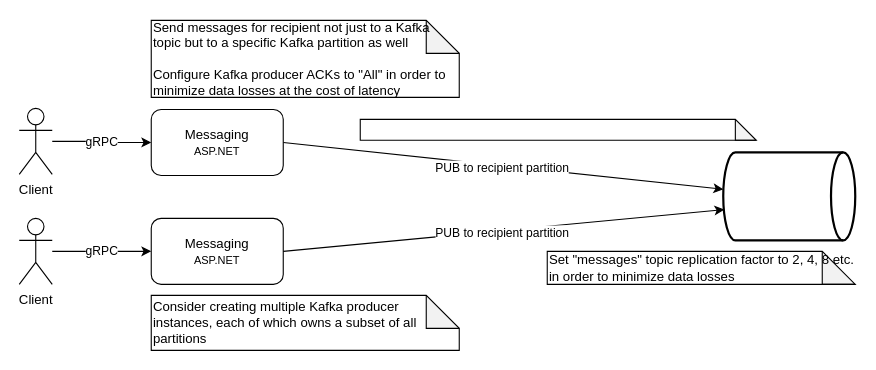
This 876x370 diagram has some shape labels left out. The centre of each missing label's shape, as x and y in pixels:
PUB/SUB Kafka cluster: the point at 789,196
Recipient Kafka partition = Hash(recipient ID) % PartitionCount: the point at 557,129
